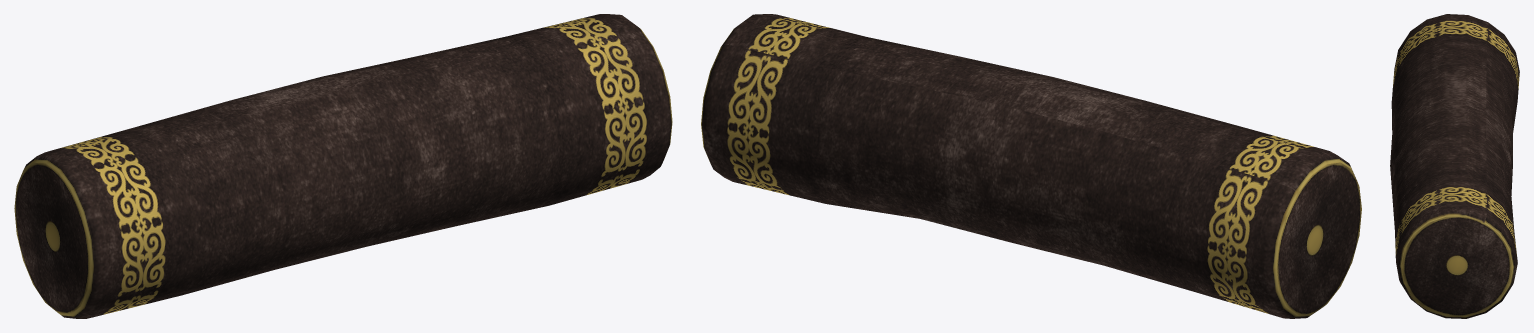
The model's file is pillow_long_cylinder_01.glb.
3 views of the same model, side by side, from view 1: azimuth 30°, elevation 25°; view 2: azimuth 150°, elevation 25°; view 3: azimuth 270°, elevation 25° (orthographic). The views are drawn at different scales.
Parts seen in each view (by area): view 1: Pillow_Throne_Long_01; view 2: Pillow_Throne_Long_01; view 3: Pillow_Throne_Long_01.
Part boxes in pixels (<box>): Pillow_Throne_Long_01: <box>14,14,672,318</box>; Pillow_Throne_Long_01: <box>701,14,1361,318</box>; Pillow_Throne_Long_01: <box>1390,14,1519,318</box>.
Bounding box in the file's own units: 113 × 30.2 × 30.56.
Materials: 1 (1 with a texture image).
